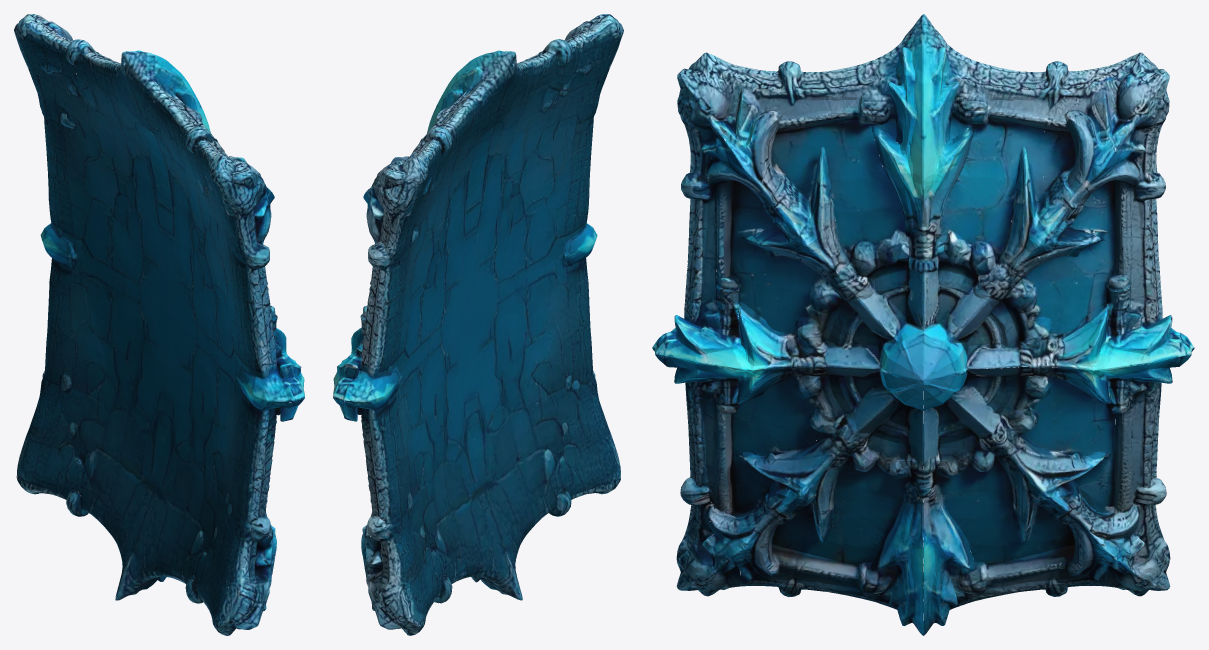
The model's file is winter_lord_paladin_secondary.glb.
The picture shows the model from 3 angles, left to right: view 1: azimuth 30°, elevation 25°; view 2: azimuth 150°, elevation 25°; view 3: azimuth 270°, elevation 25°; orthographic projection. The views are drawn at different scales.
Visible parts, largest first — view 1: tripo_node_cc90929b-4306-4ceb-8d6b-d40fa3d8ef8d; view 2: tripo_node_cc90929b-4306-4ceb-8d6b-d40fa3d8ef8d; view 3: tripo_node_cc90929b-4306-4ceb-8d6b-d40fa3d8ef8d.
Boxes of the visible parts, x1,y1,x2,y2 form: tripo_node_cc90929b-4306-4ceb-8d6b-d40fa3d8ef8d: [14, 14, 304, 635]; tripo_node_cc90929b-4306-4ceb-8d6b-d40fa3d8ef8d: [333, 14, 623, 635]; tripo_node_cc90929b-4306-4ceb-8d6b-d40fa3d8ef8d: [652, 14, 1194, 635].
Size of the model in its own units: 0.2357 by 0.9995 by 0.8009.
1 material, 1 textured.
